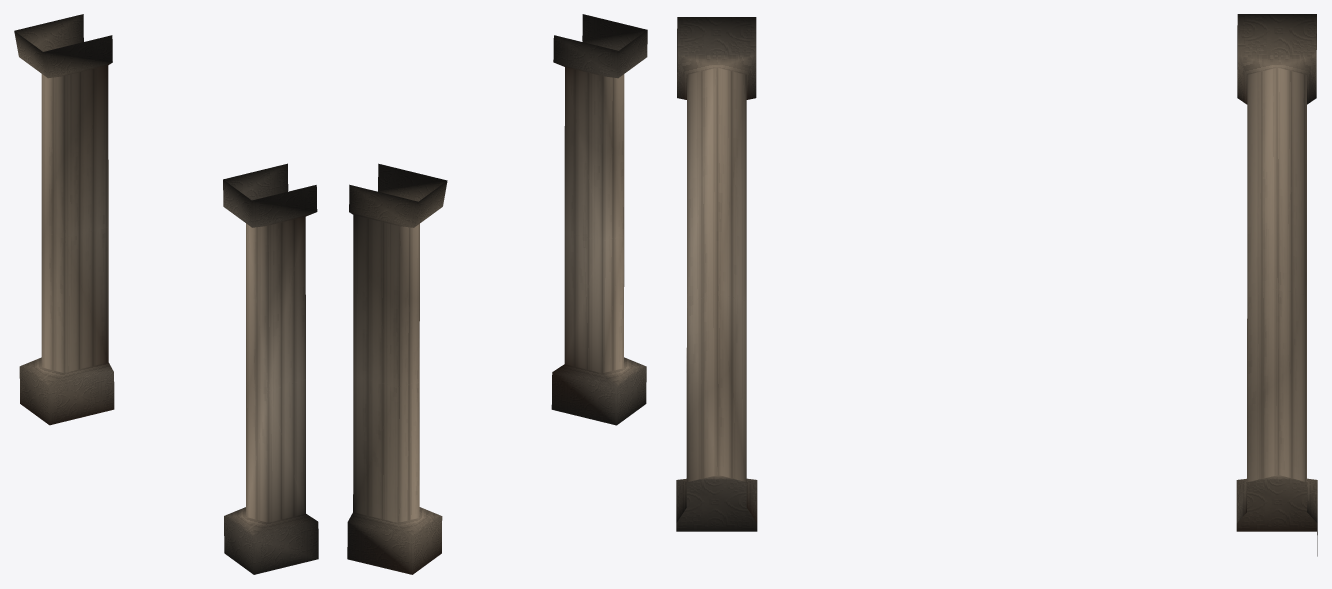
File: pillars.glb
3 views of the same model, side by side, from view 1: azimuth 30°, elevation 25°; view 2: azimuth 150°, elevation 25°; view 3: azimuth 270°, elevation 25° (orthographic). The views are drawn at different scales.
Parts seen in each view (by area): view 1: pillars; view 2: pillars; view 3: pillars.
Part boxes in pixels (box(x1,y1,x2,y2)): pillars: box(14, 14, 318, 574); pillars: box(347, 14, 647, 574); pillars: box(676, 14, 1317, 556).
Size of the model in its own units: 23.64 by 119 by 135.
2 materials, 2 textured.
